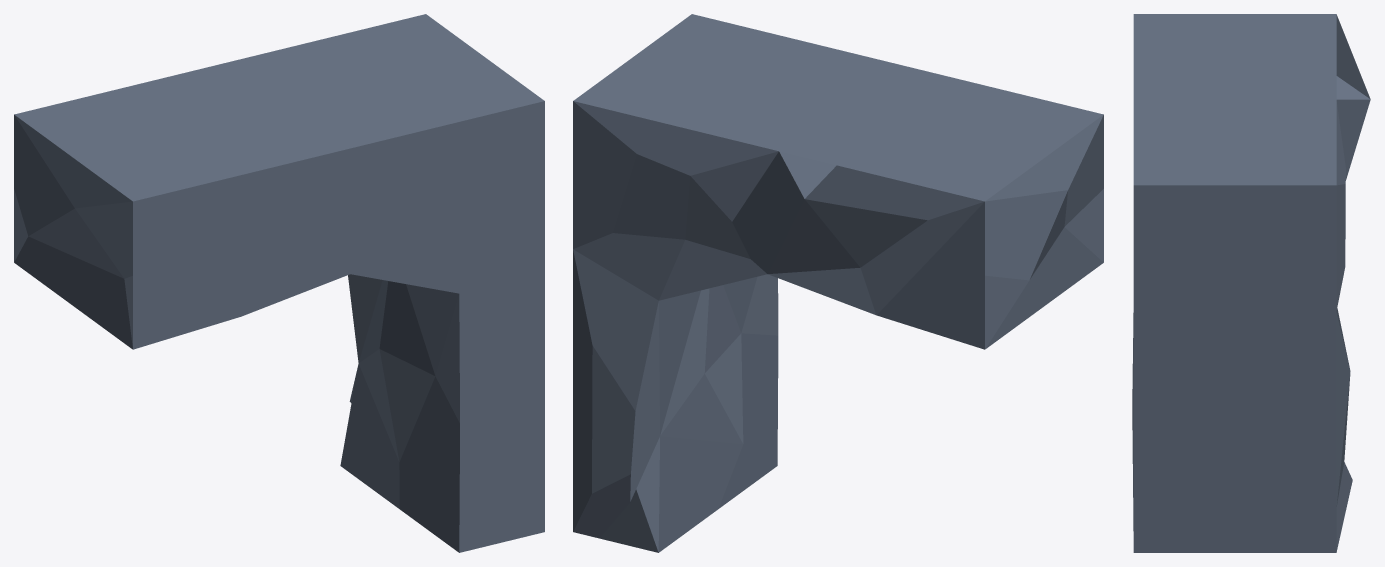
Rendered from caveEntrance.fbx.
The picture shows the model from 3 angles, left to right: view 1: azimuth 30°, elevation 25°; view 2: azimuth 150°, elevation 25°; view 3: azimuth 270°, elevation 25°; orthographic projection. The views are drawn at different scales.
Parts seen in each view (by area): view 1: Cube; view 2: Cube; view 3: Cube.
Boxes of the visible parts, box(x1,y1,x2,y2) form: Cube: box(14, 14, 544, 552); Cube: box(573, 14, 1103, 552); Cube: box(1132, 14, 1370, 552).
Bounding box in the file's own units: 415 × 400 × 235.
